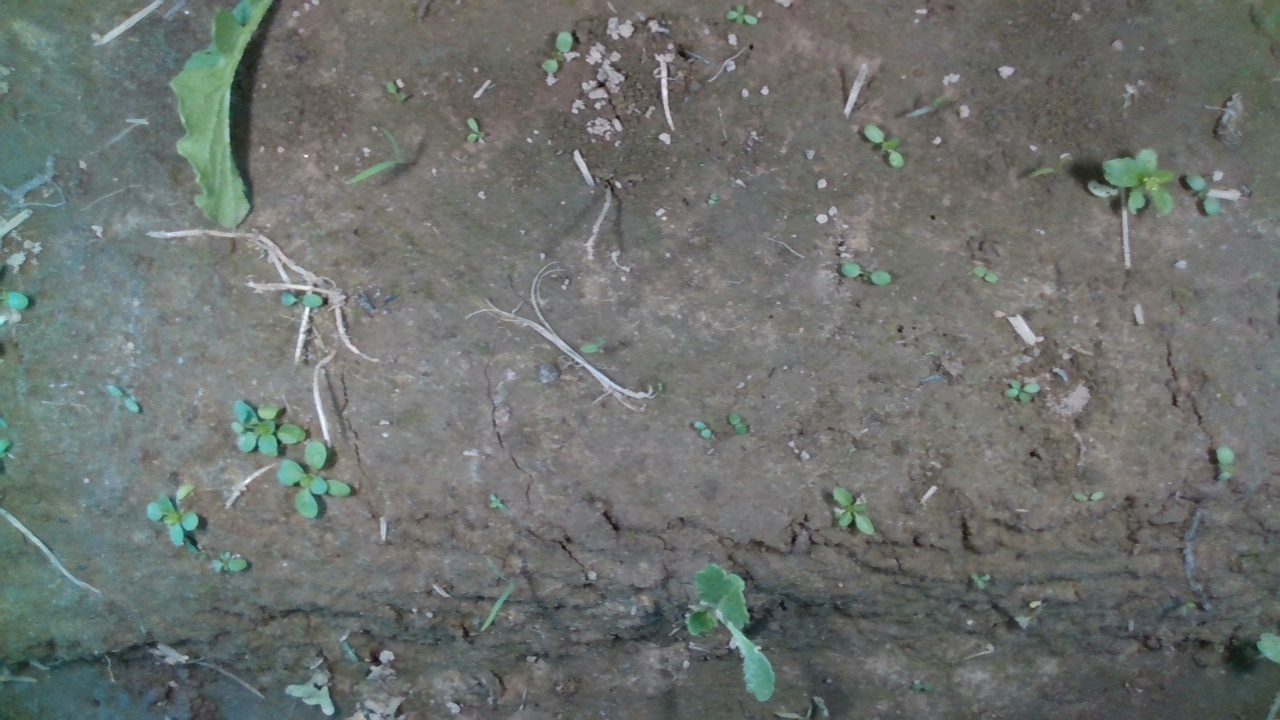weed: (830, 484, 875, 536), (860, 123, 906, 167), (1184, 172, 1222, 218), (542, 29, 574, 73), (840, 261, 893, 286), (207, 549, 248, 573), (1003, 379, 1041, 404), (279, 290, 325, 309), (1214, 444, 1236, 483), (464, 116, 488, 146), (725, 4, 757, 25), (727, 410, 750, 435), (382, 79, 407, 102), (578, 335, 606, 355), (1071, 490, 1107, 504), (972, 265, 999, 282), (691, 418, 712, 439), (968, 572, 992, 588), (487, 492, 506, 510)
